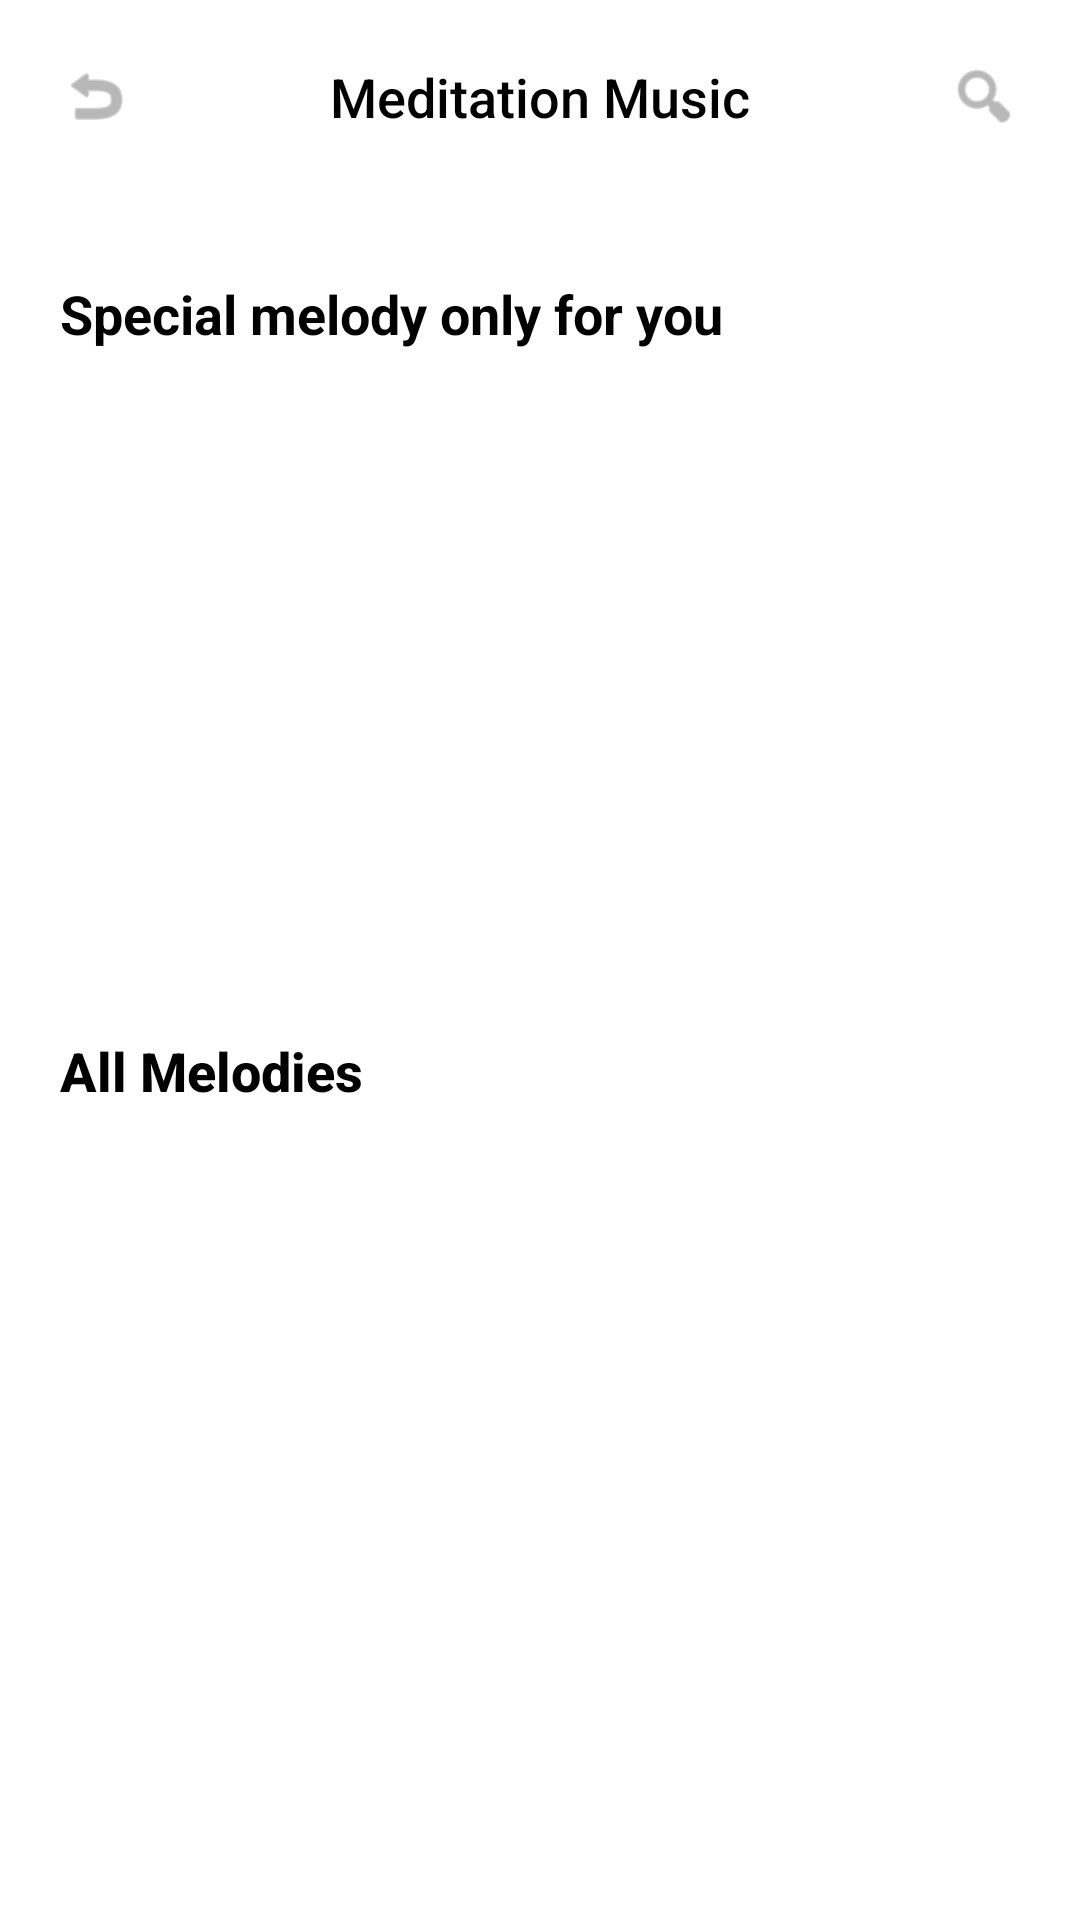

Where icons sit on this 1080x1920 app screen, as {"x1": x1, "y1": y1, "x2": x2, "y2": y2}:
revert: {"x1": 71, "y1": 73, "x2": 123, "y2": 120}
search: {"x1": 958, "y1": 70, "x2": 1010, "y2": 123}
